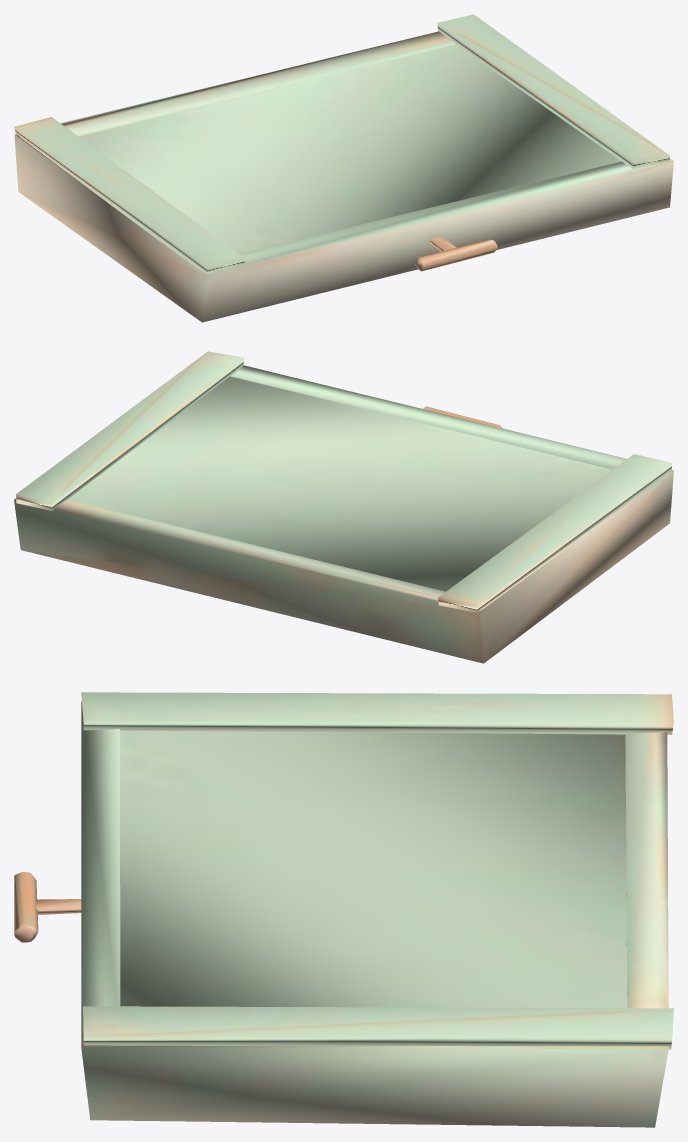
Rendered from toyBoxLid.glb.
3 views of the same model, one above another, from view 1: azimuth 30°, elevation 25°; view 2: azimuth 150°, elevation 25°; view 3: azimuth 270°, elevation 25° (orthographic). The views are drawn at different scales.
Visible parts, largest first — view 1: toyBoxLid; view 2: toyBoxLid; view 3: toyBoxLid.
Boxes of the visible parts, bbox=[...] form: toyBoxLid: bbox=[14, 14, 673, 322]; toyBoxLid: bbox=[14, 351, 673, 663]; toyBoxLid: bbox=[14, 692, 673, 1127].
Bounding box in the file's own units: 0.5875 × 0.076 × 0.4726.
1 material, 1 textured.
